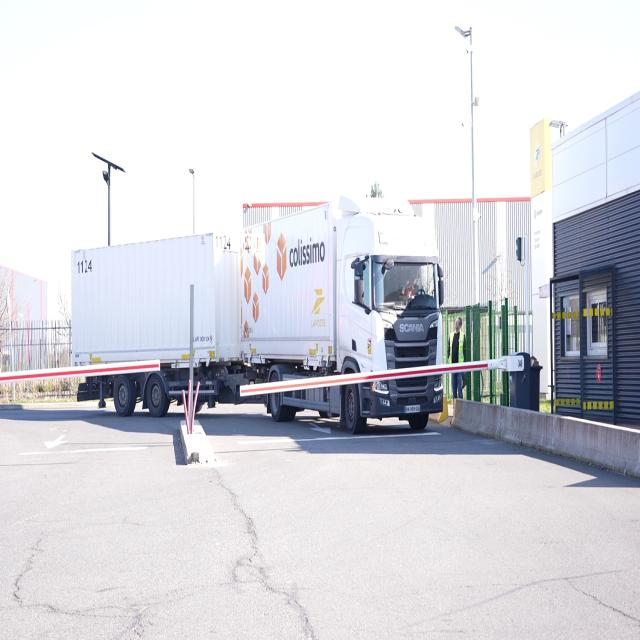Code: (73, 250, 94, 280), (213, 234, 232, 258)
